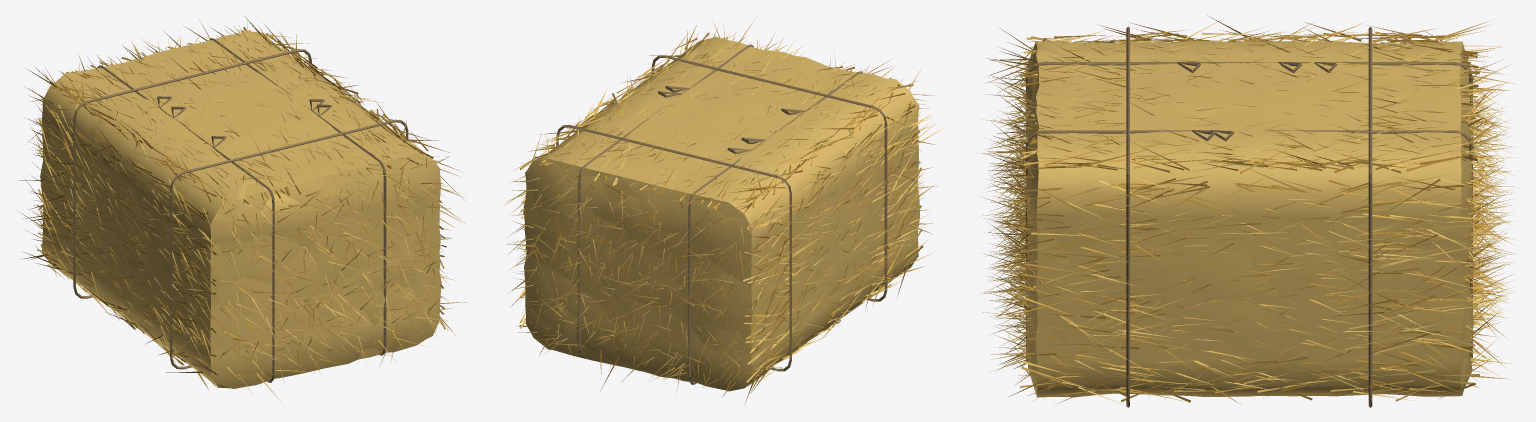
Rendered from hay_bale.glb.
3 views of the same model, side by side, from view 1: azimuth 30°, elevation 25°; view 2: azimuth 150°, elevation 25°; view 3: azimuth 270°, elevation 25° (orthographic). The views are drawn at different scales.
Visible parts, largest first — view 1: Bale0, Bale1, Bale2; view 2: Bale0, Bale1, Bale2; view 3: Bale0, Bale1, Bale2.
Boxes of the visible parts, x1,y1,x2,y2 form: Bale0: (19,25,464,388); Bale1: (20,19,467,404); Bale2: (21,16,464,392); Bale0: (507,17,942,395); Bale1: (506,19,934,396); Bale2: (505,33,938,403); Bale0: (984,20,1516,407); Bale1: (976,16,1515,404); Bale2: (982,15,1518,404).
Size of the model in its own units: 1.01 by 0.8356 by 1.49.
